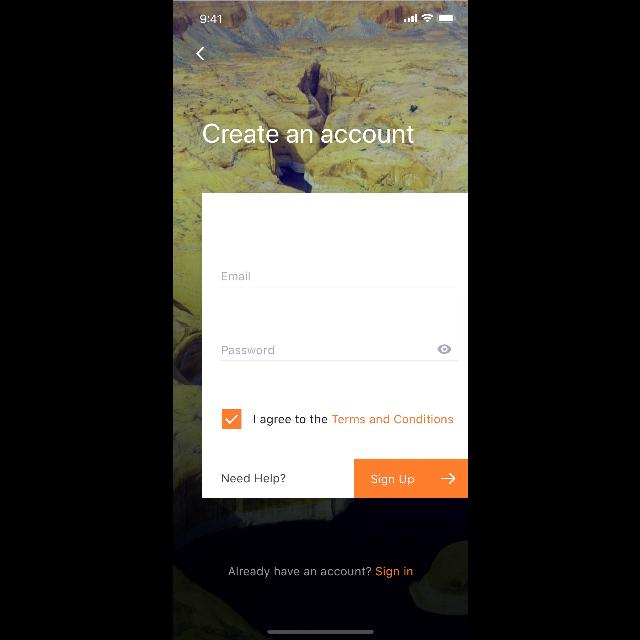backgroundimage: (172, 1, 468, 640)
checkbox: (222, 409, 240, 428)
icon: (437, 344, 451, 354), (195, 47, 202, 61)
input: (218, 272, 458, 288), (218, 345, 458, 361)
text: (202, 123, 414, 143), (253, 414, 452, 426), (228, 566, 412, 578), (222, 474, 284, 484)
textbutton: (353, 458, 467, 498)
uppertaskbar: (200, 14, 456, 24)
